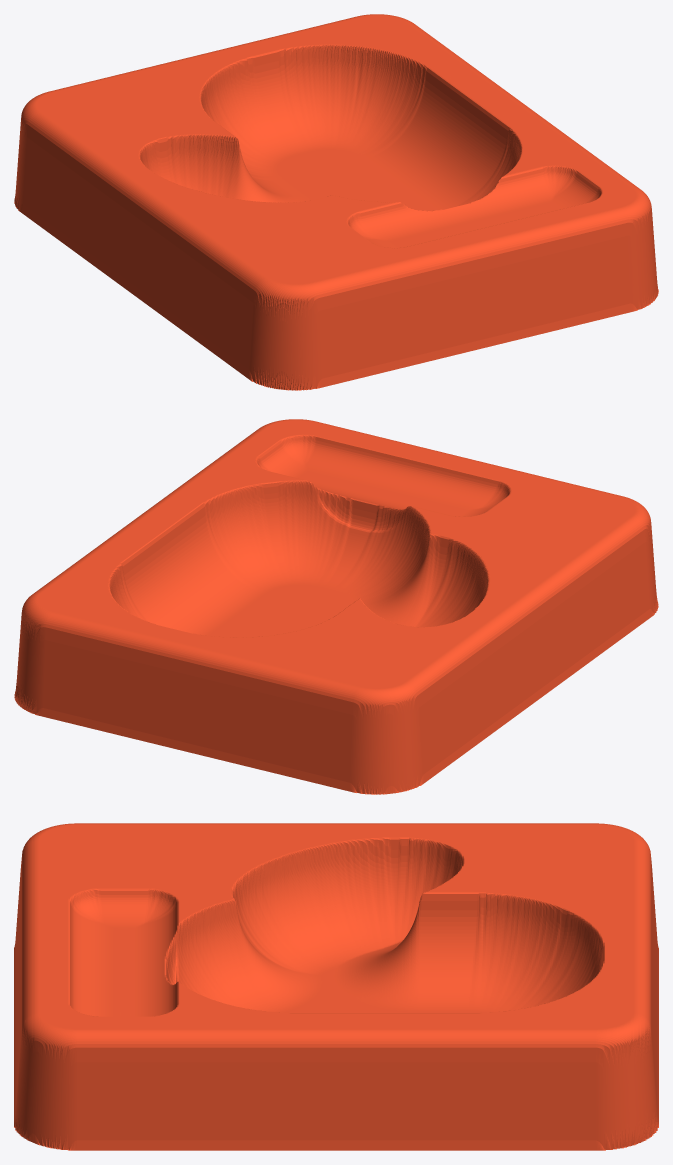
The model's file is mold.glb.
The picture shows the model from 3 angles, top to bottom: view 1: azimuth 30°, elevation 25°; view 2: azimuth 150°, elevation 25°; view 3: azimuth 270°, elevation 25°; orthographic projection. The views are drawn at different scales.
Visible parts, largest first — view 1: geometry_0; view 2: geometry_0; view 3: geometry_0.
Boxes of the visible parts, left/top/right/bottom form: geometry_0: left=14, top=14, right=658, bottom=390; geometry_0: left=14, top=419, right=658, bottom=794; geometry_0: left=14, top=823, right=658, bottom=1150.
Size of the model in its own units: 0.0764 by 0.0175 by 0.0924.
